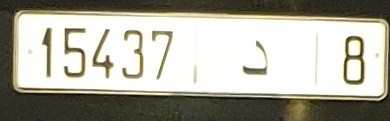1: (40, 26, 53, 78)
3: (121, 28, 145, 81)
4: (91, 27, 115, 78)
5: (63, 24, 87, 79)
7: (149, 29, 175, 79)
8: (339, 33, 368, 86)
d: (238, 38, 272, 76)
